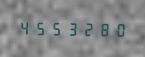eight: (92, 20, 106, 37)
five: (32, 19, 46, 36), (47, 19, 61, 36)
four: (17, 19, 31, 36)
three: (62, 19, 76, 37)
two: (77, 20, 91, 37)
zero: (107, 20, 121, 37)
